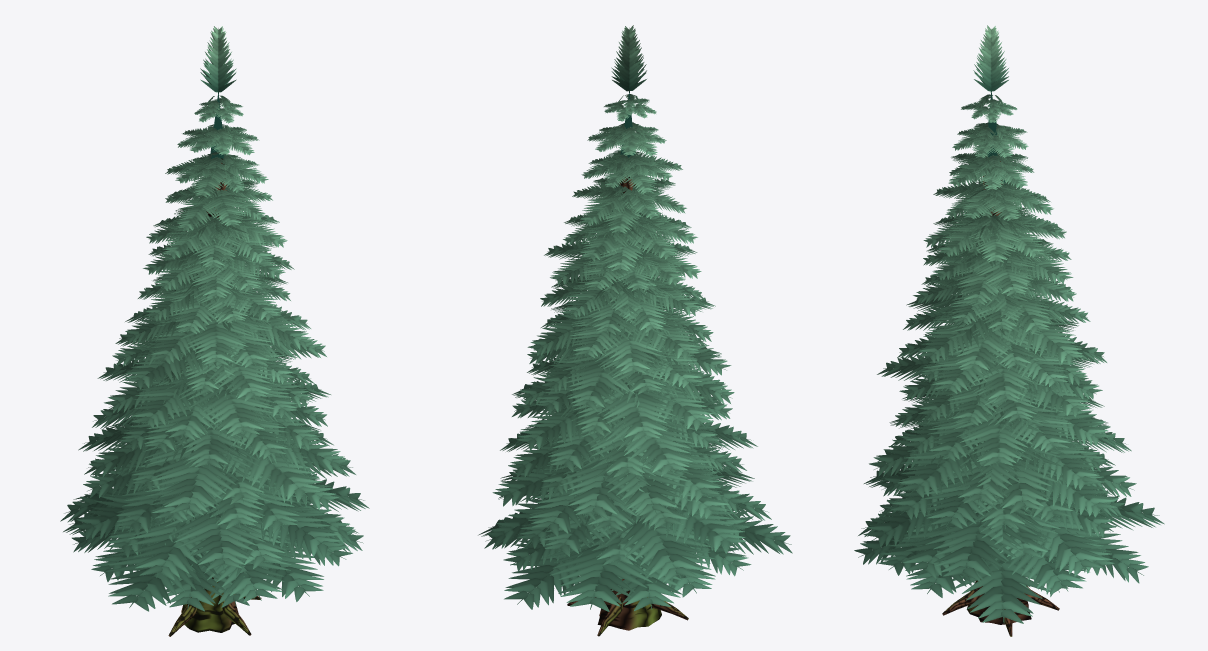
The model's file is pine_tall.gltf.
The picture shows the model from 3 angles, left to right: view 1: azimuth 30°, elevation 25°; view 2: azimuth 150°, elevation 25°; view 3: azimuth 270°, elevation 25°; orthographic projection.
Visible parts, largest first — view 1: Canopy_summer, Trunk; view 2: Canopy_summer, Trunk; view 3: Canopy_summer, Trunk.
Part boxes in pixels (bbox=[...]): Canopy_summer: bbox=[60, 26, 369, 611]; Trunk: bbox=[168, 158, 261, 636]; Canopy_summer: bbox=[478, 25, 792, 611]; Trunk: bbox=[567, 176, 688, 636]; Canopy_summer: bbox=[854, 25, 1164, 623]; Trunk: bbox=[942, 161, 1059, 636].
Bounding box in the file's own units: 5.02 × 8.66 × 4.9.
Materials: 2 (2 with a texture image).
